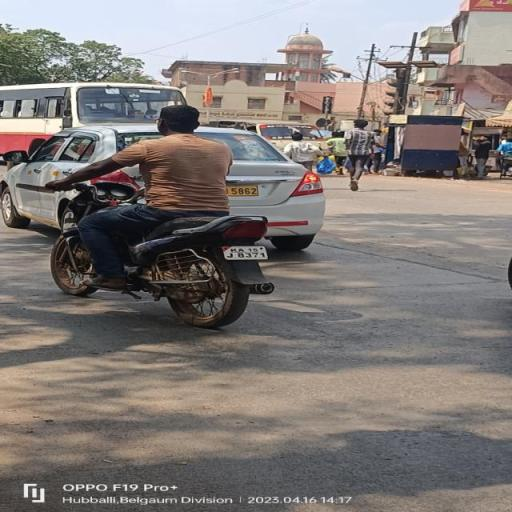bike: (44, 102, 282, 328)
numberplate: (220, 245, 270, 260)
withouthelmet: (158, 106, 200, 133)
